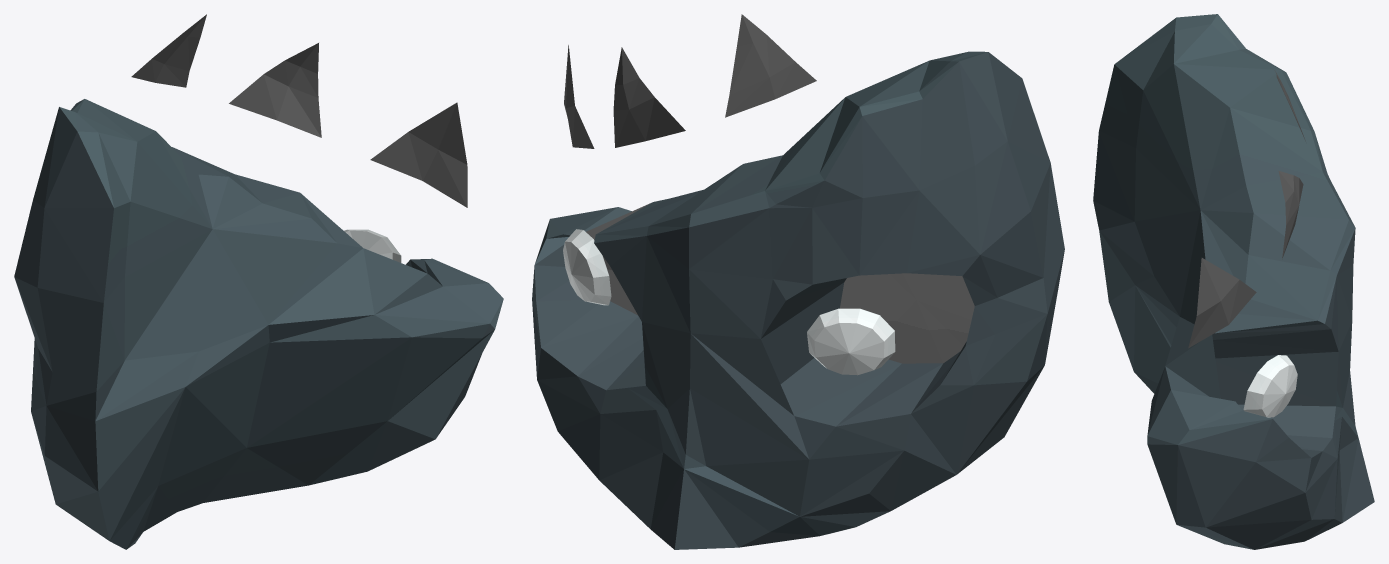
The model's file is CharSkyKid_Mask_AP13Cracked_01.glb.
3 views of the same model, side by side, from view 1: azimuth 30°, elevation 25°; view 2: azimuth 150°, elevation 25°; view 3: azimuth 270°, elevation 25° (orthographic). The views are drawn at different scales.
Visible parts, largest first — view 1: CharSkyKid_Mask_AP13Cracked_01; view 2: CharSkyKid_Mask_AP13Cracked_01; view 3: CharSkyKid_Mask_AP13Cracked_01.
Boxes of the visible parts, x1,y1,x2,y2 form: CharSkyKid_Mask_AP13Cracked_01: (14, 14, 503, 549); CharSkyKid_Mask_AP13Cracked_01: (532, 14, 1064, 549); CharSkyKid_Mask_AP13Cracked_01: (1093, 14, 1374, 549).
Bounding box in the file's own units: 2.01 × 2.05 × 1.17.
Materials: 1 (1 with a texture image).
